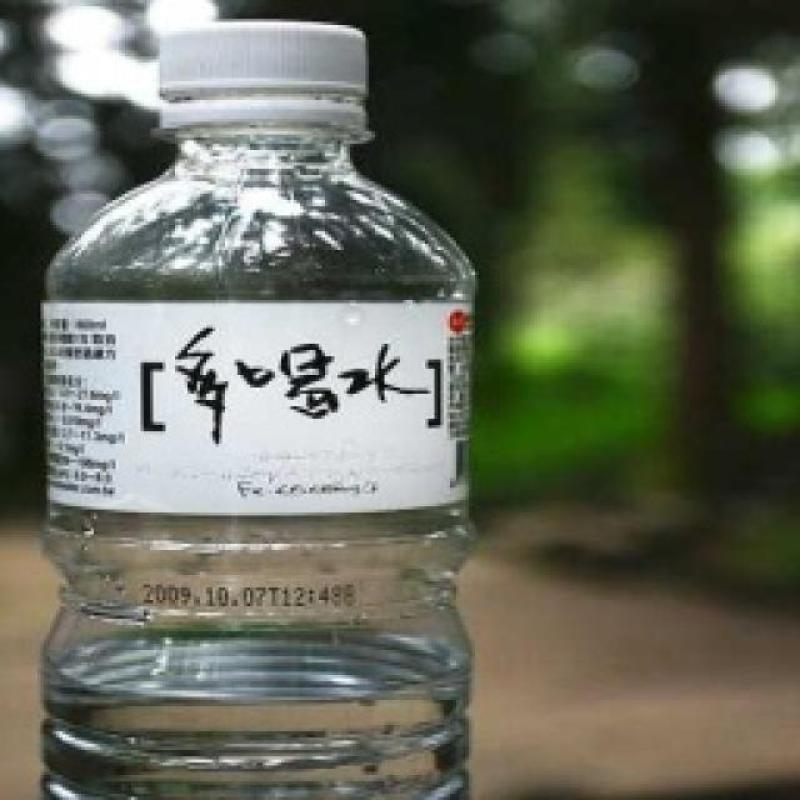botella: (42, 19, 486, 800)
